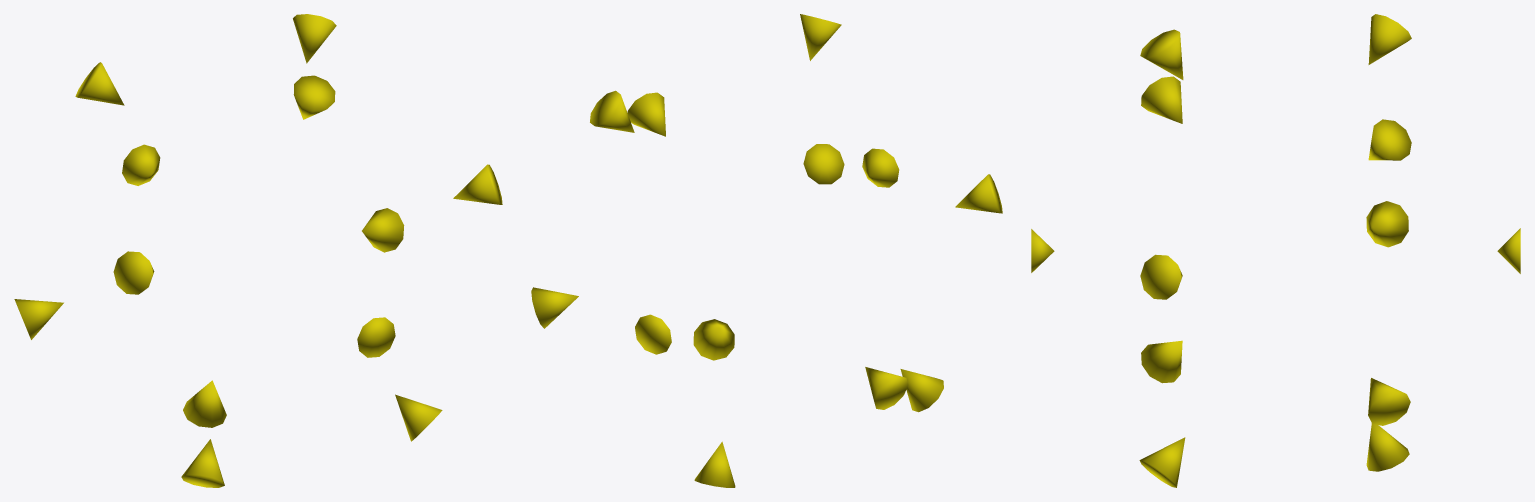
File: VirSpikes.fbx
3 renders of one model, left to right at view 1: azimuth 30°, elevation 25°; view 2: azimuth 150°, elevation 25°; view 3: azimuth 270°, elevation 25°, orthographic. The views are drawn at different scales.
Visible parts, largest first — view 1: Cone.005, Cone.003, Cone.008, Cone.010, Cone.007, Cone, Cone.012, Cone.002, Cone.006, Cone.004, Cone.011, Cone.009; view 2: Cone.011, Cone.006, Cone.004, Cone.007, Cone.009, Cone.012, Cone, Cone.002, Cone.008, Cone.005, Cone.010, Cone.003; view 3: Cone.009, Cone.004, Cone.007, Cone.012, Cone.008, Cone.005, Cone.010, Cone.003, Cone.006, Cone.011, Cone, Cone.002.
Boxes of the visible parts, <box> form: Cone.005: <box>113,251,154,294</box>; Cone.003: <box>293,75,335,119</box>; Cone.008: <box>362,208,404,252</box>; Cone.010: <box>183,380,226,427</box>; Cone.007: <box>293,14,336,63</box>; Cone: <box>122,144,160,185</box>; Cone.012: <box>181,439,224,487</box>; Cone.002: <box>357,317,395,357</box>; Cone.006: <box>75,62,124,105</box>; Cone.004: <box>453,164,502,204</box>; Cone.011: <box>395,394,442,441</box>; Cone.009: <box>14,299,63,339</box>; Cone.011: <box>693,319,734,360</box>; Cone.006: <box>803,144,844,184</box>; Cone.004: <box>627,92,665,136</box>; Cone.007: <box>590,90,634,132</box>; Cone.009: <box>865,367,908,409</box>; Cone.012: <box>900,369,943,412</box>; Cone: <box>635,314,671,354</box>; Cone.002: <box>862,148,899,187</box>; Cone.008: <box>531,287,578,328</box>; Cone.005: <box>955,174,1002,213</box>; Cone.010: <box>694,441,735,487</box>; Cone.003: <box>800,14,841,60</box>; Cone.009: <box>1366,201,1408,247</box>; Cone.004: <box>1140,254,1182,299</box>; Cone.007: <box>1368,119,1411,160</box>; Cone.012: <box>1141,340,1182,383</box>; Cone.008: <box>1368,378,1410,425</box>; Cone.005: <box>1141,76,1182,123</box>; Cone.010: <box>1366,423,1409,471</box>; Cone.003: <box>1140,29,1183,79</box>; Cone.006: <box>1368,14,1411,64</box>; Cone.011: <box>1139,437,1185,487</box>; Cone: <box>1497,228,1520,273</box>; Cone.002: <box>1031,229,1054,272</box>.
Bounding box in the file's own units: 0.1978 × 0.2053 × 0.21.
